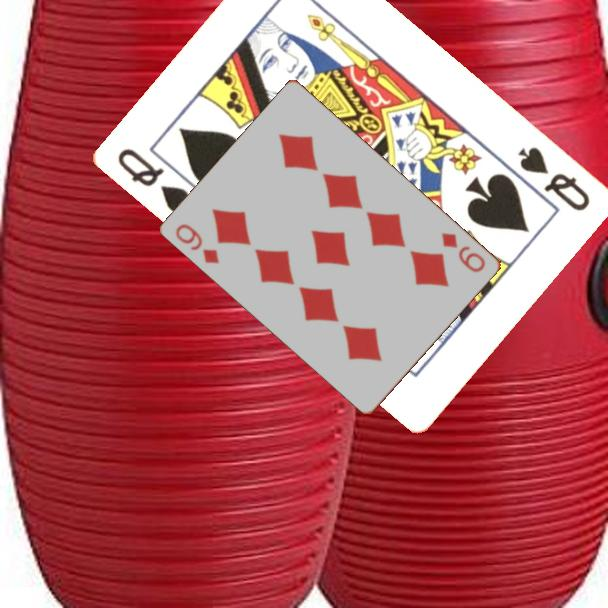d09: (438, 229, 489, 276), (172, 220, 223, 267)
s12: (115, 144, 196, 216), (515, 143, 594, 214)
